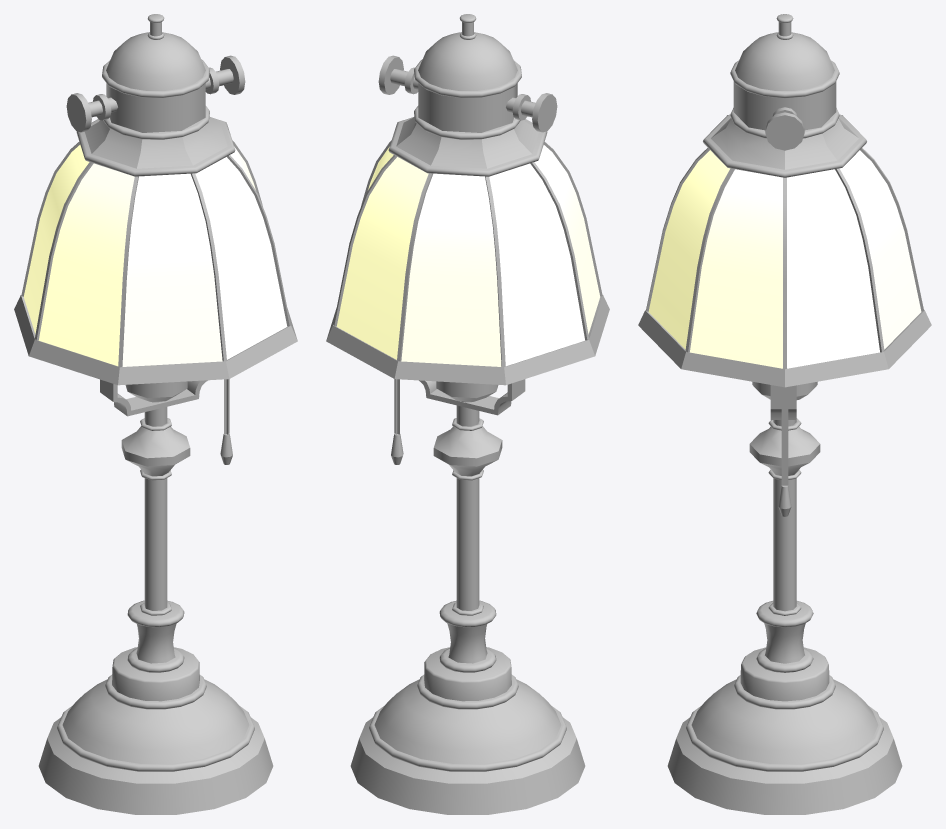
3 renders of one model, left to right at view 1: azimuth 30°, elevation 25°; view 2: azimuth 150°, elevation 25°; view 3: azimuth 270°, elevation 25°, orthographic.
Visible parts, largest first — view 1: Cylinder004, Object015_lamp_0, Plane002; view 2: Cylinder004, Object015_lamp_0, Plane002; view 3: Cylinder004, Object015_lamp_0, Plane002.
Part boxes in pixels (x1,y1,x2,y2): Cylinder004: (14, 14, 297, 385); Object015_lamp_0: (38, 379, 273, 814); Plane002: (220, 379, 232, 464); Cylinder004: (326, 14, 609, 385); Object015_lamp_0: (350, 379, 585, 814); Plane002: (391, 379, 403, 464); Cylinder004: (638, 14, 931, 387); Object015_lamp_0: (667, 381, 902, 814); Plane002: (778, 387, 791, 516).
Size of what is drawn, in the model's own units: 0.2239 by 0.6302 by 0.2239.
